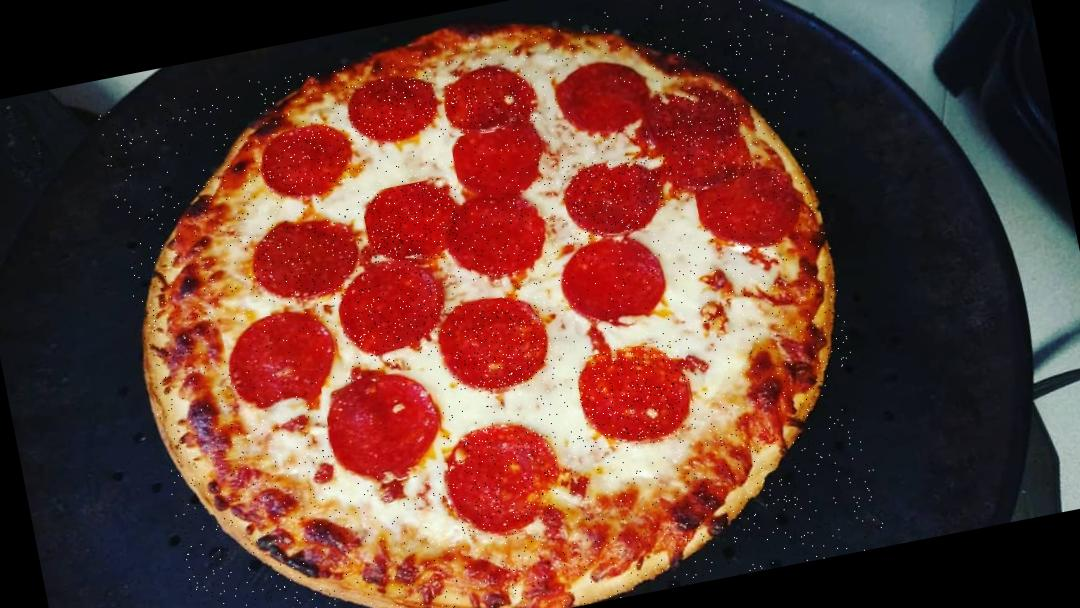Pepperoni: (444, 416, 572, 543), (322, 367, 448, 484), (574, 338, 699, 454), (444, 290, 558, 400), (221, 306, 344, 404), (333, 258, 450, 360), (558, 232, 670, 332), (653, 87, 756, 195), (245, 212, 364, 305), (360, 177, 468, 270), (560, 153, 669, 242), (695, 171, 809, 256), (459, 190, 556, 283), (450, 121, 552, 206), (554, 54, 655, 138), (440, 60, 538, 136), (259, 121, 355, 198), (344, 71, 441, 142)
Pizza: (96, 0, 888, 608)
